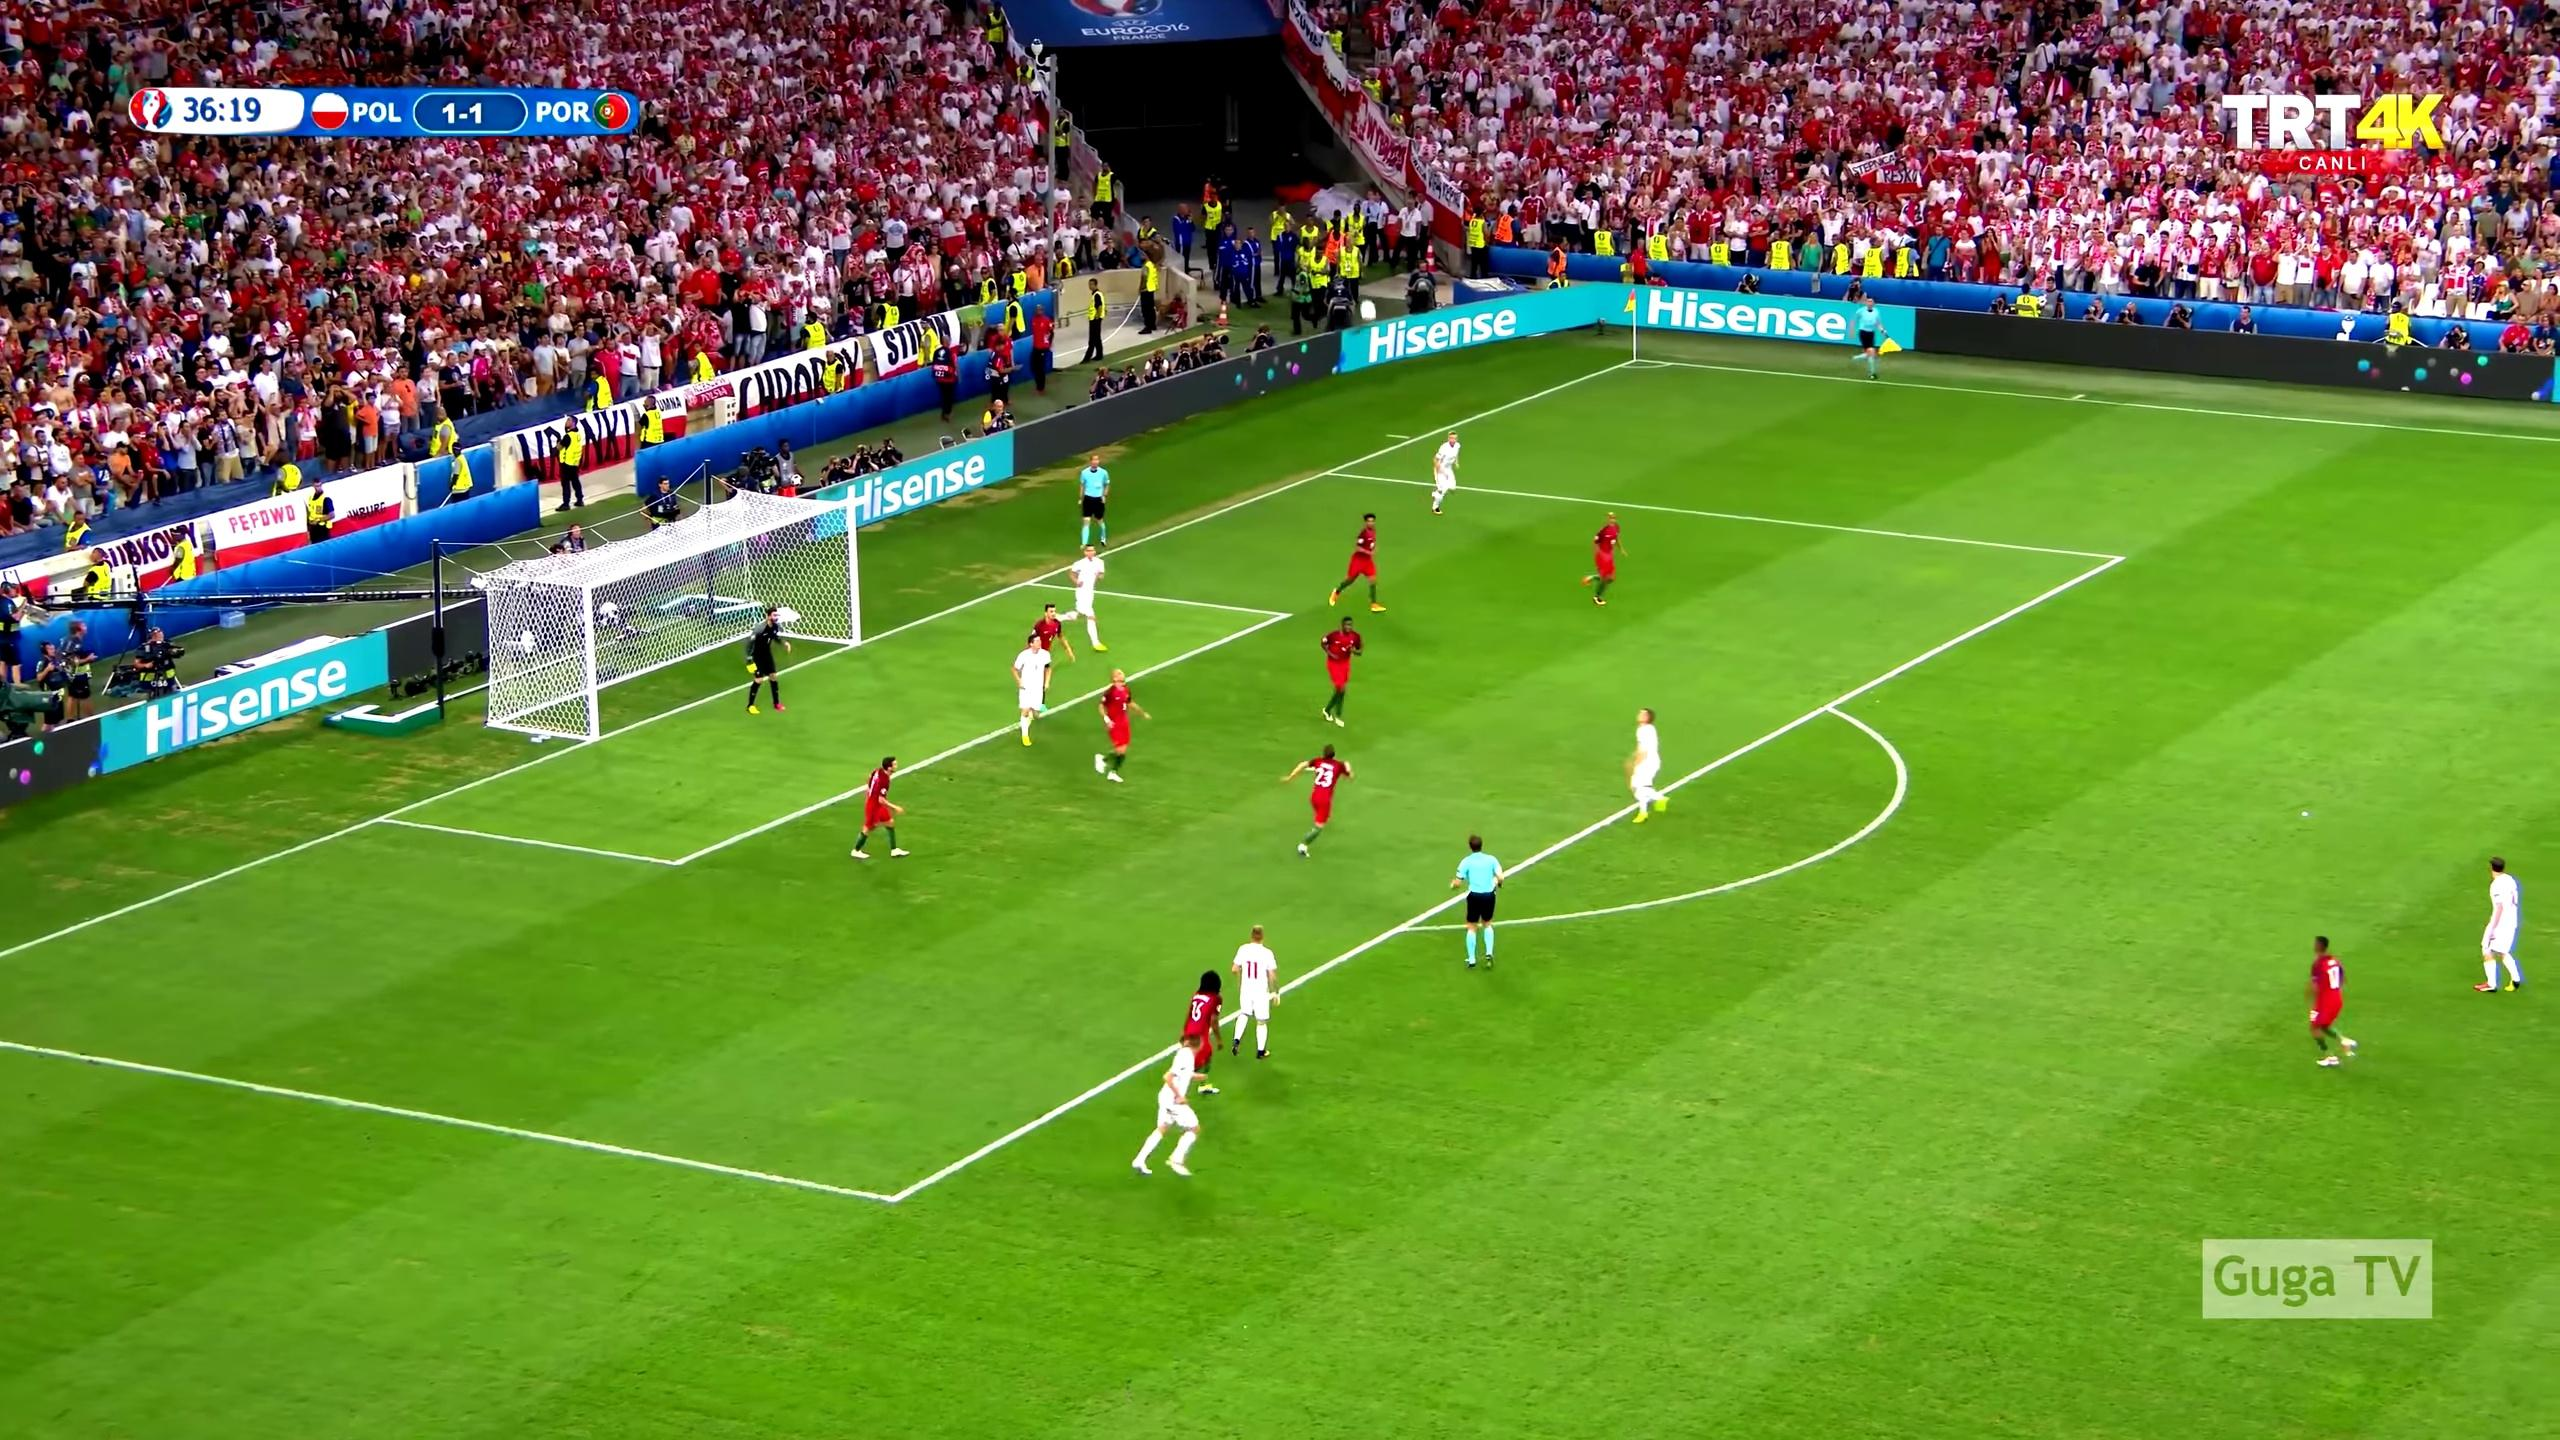goalkeeper: (741, 604, 797, 720)
player: (1129, 1029, 1210, 1185), (1279, 740, 1359, 863), (2300, 930, 2362, 1073), (2470, 851, 2528, 998), (1164, 966, 1228, 1097), (1226, 921, 1284, 1062), (1323, 510, 1391, 617), (1051, 541, 1114, 655), (1311, 613, 1369, 736), (850, 751, 912, 865), (1620, 703, 1676, 827), (1030, 599, 1080, 719), (1579, 503, 1632, 614), (1011, 631, 1056, 754), (1427, 430, 1472, 518)
referee: (1441, 829, 1512, 973), (1844, 291, 1904, 393), (1074, 451, 1114, 554)
